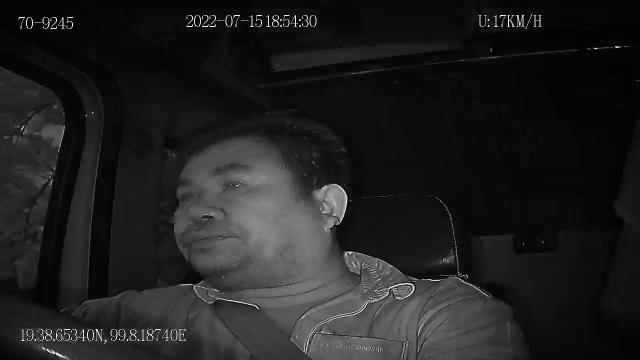SafeDriving: (216, 169, 256, 198)
Seatbelt: (210, 296, 314, 360)
